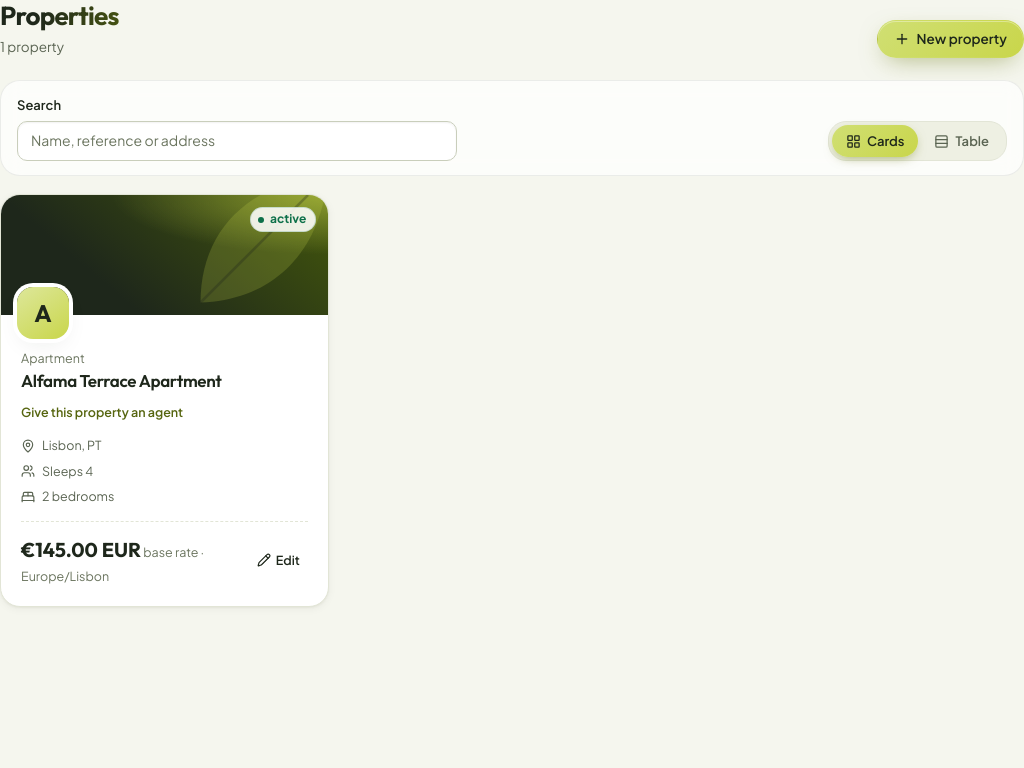
Test: the fields a listing actually needs › offers everything an operator has to type in without a channel
Click the button "New property".
click(950, 39)  # box [877,20,1023,58]
(page scrolled)
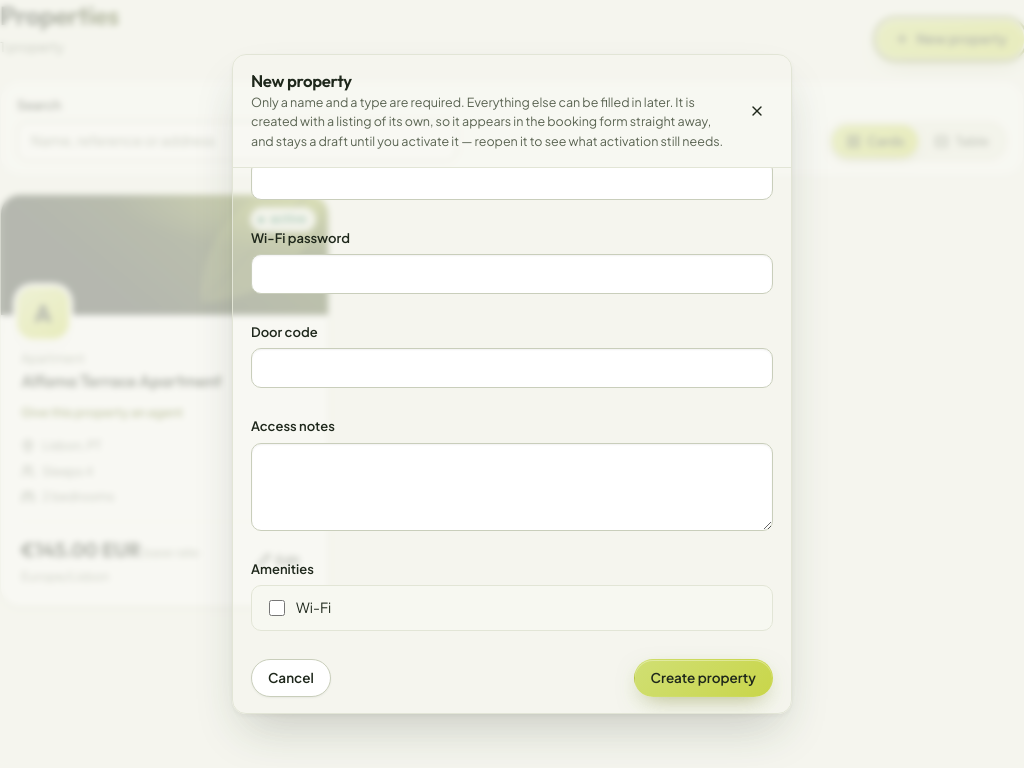
Result: the field labelled "Wi-Fi network" is shown at [251,168,773,200]
Result: the field labelled "Wi-Fi password" is shown at [251,254,773,294]
Result: the field labelled "Door code" is shown at [251,348,773,388]
